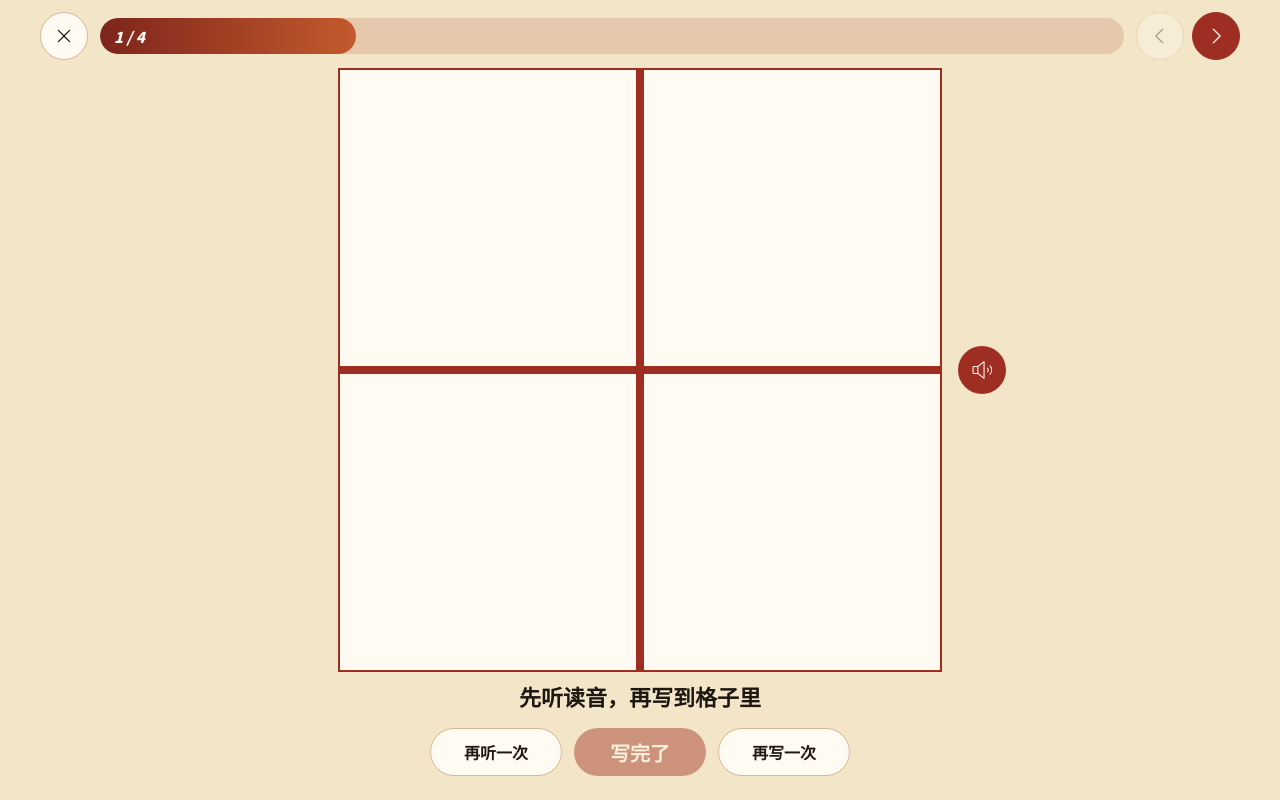
Test: lets kids hear then write without showing the character
Expected: the progress indicator named "第 1 题，共 4 题" reads "1 / 4", [100,18,1124,54]
Expected: the button named "播放读音" is shown, [958,346,1006,394]
Click the button named "下一题". click: (1216, 36)
box: [1192,12,1240,60]
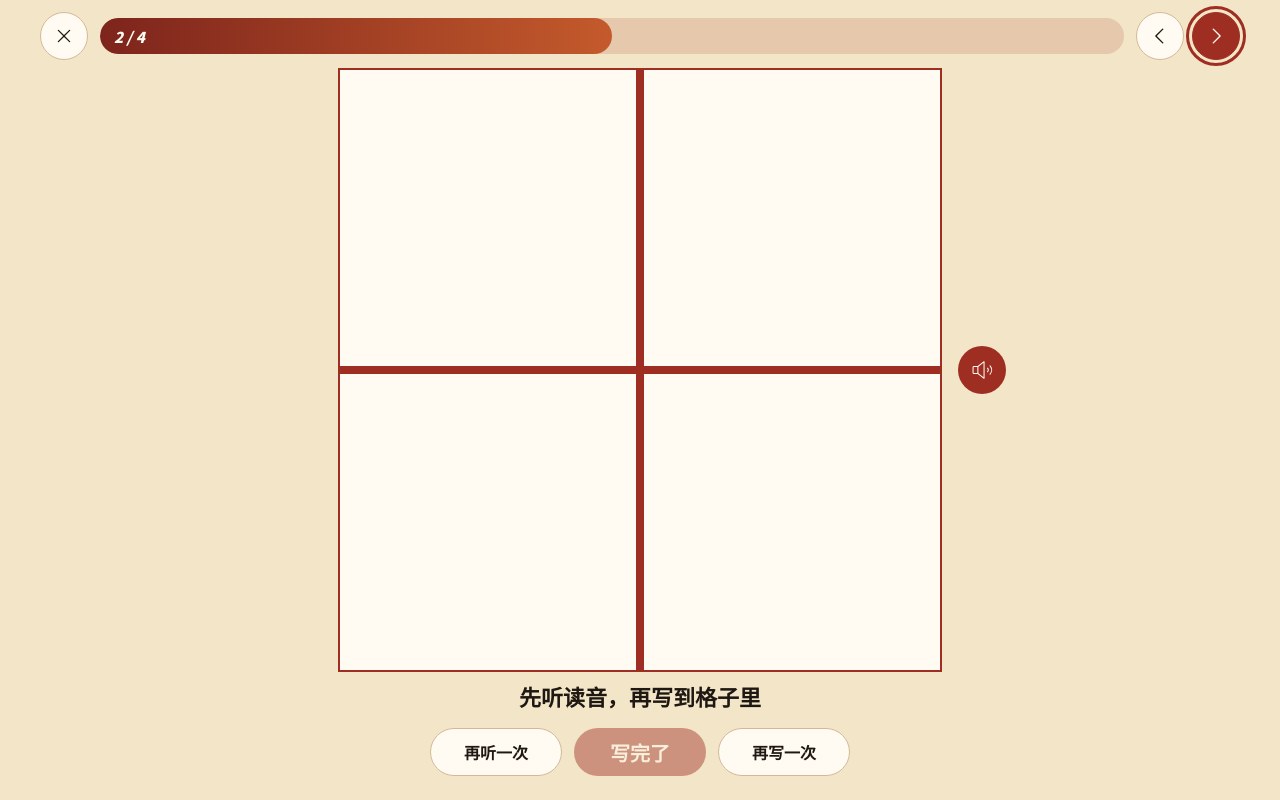
Now the progress indicator named "第 2 题，共 4 题" reads "2 / 4", box [100,18,1124,54]
